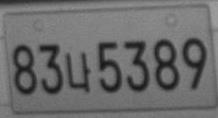3: (124, 40, 149, 91), (39, 44, 63, 94)
5: (97, 41, 122, 93)
8: (153, 38, 179, 90), (12, 44, 36, 94)
9: (181, 37, 207, 90)
나: (65, 51, 92, 92)
